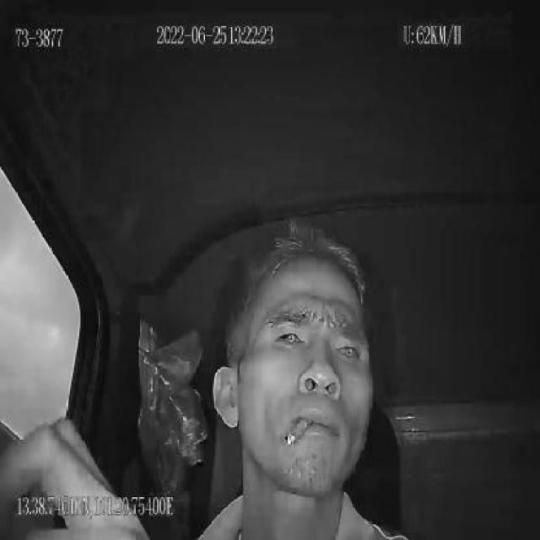smoking: (284, 418, 314, 448)
